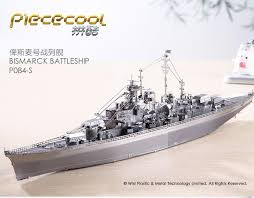tau_muctieu: (18, 53, 251, 164)
